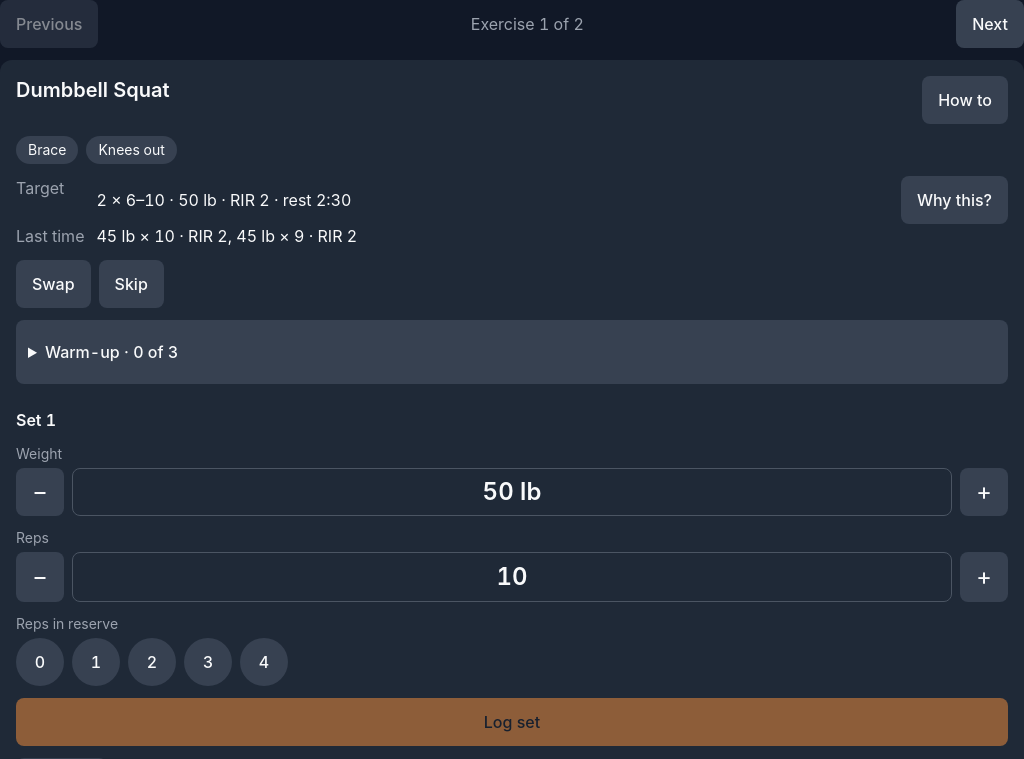
Test case: LiftPlayer › logs a prefilled set in two taps and starts the session log
Expected: the button "Log set" is disabled, [16,698,1008,746]
Click the radio button labelled "2".
click(152, 662)  # box [128,638,176,686]
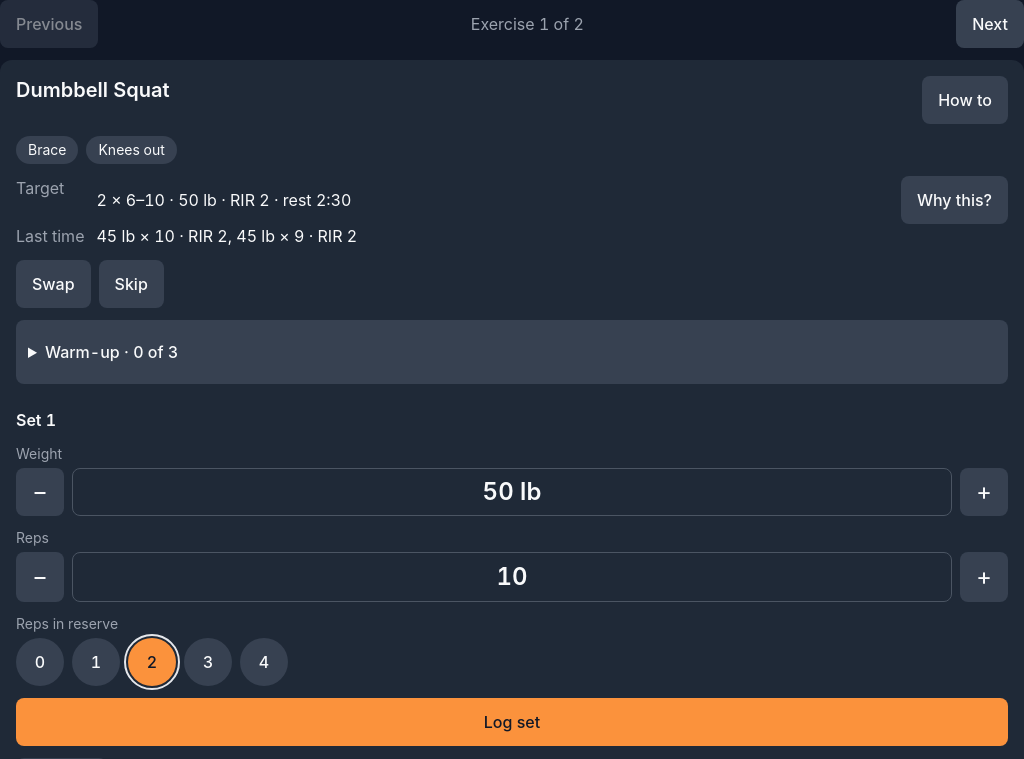
Click the button "Log set".
click(512, 722)  # box [16,698,1008,746]
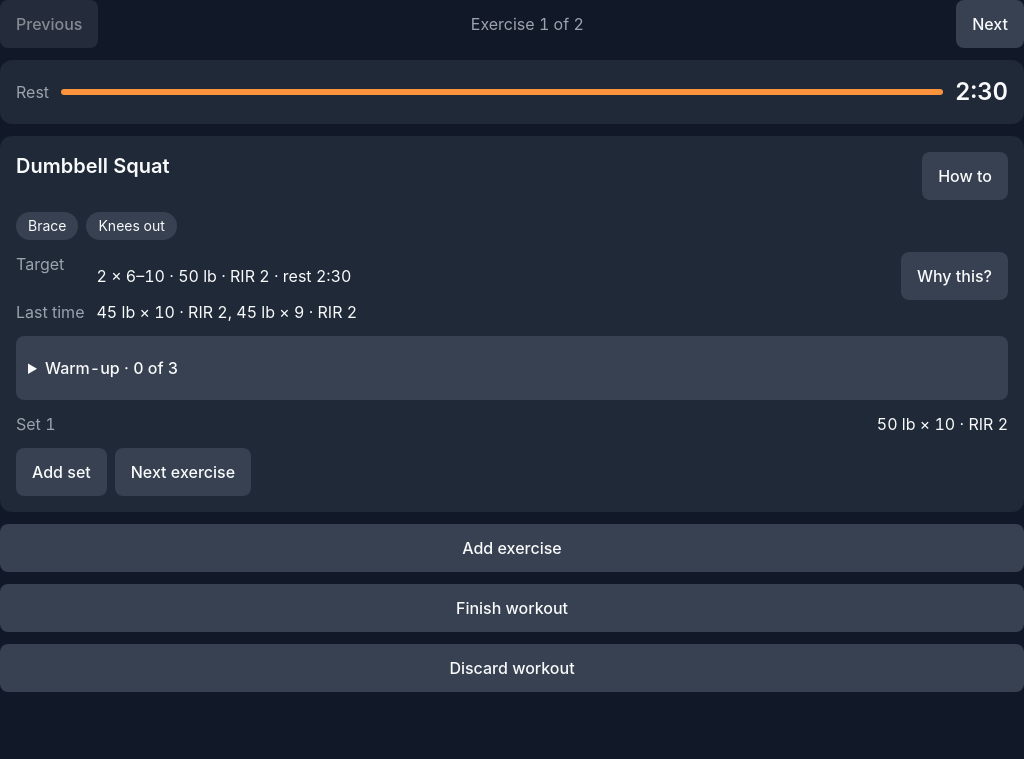
Expected: the button "Log set" is gone
